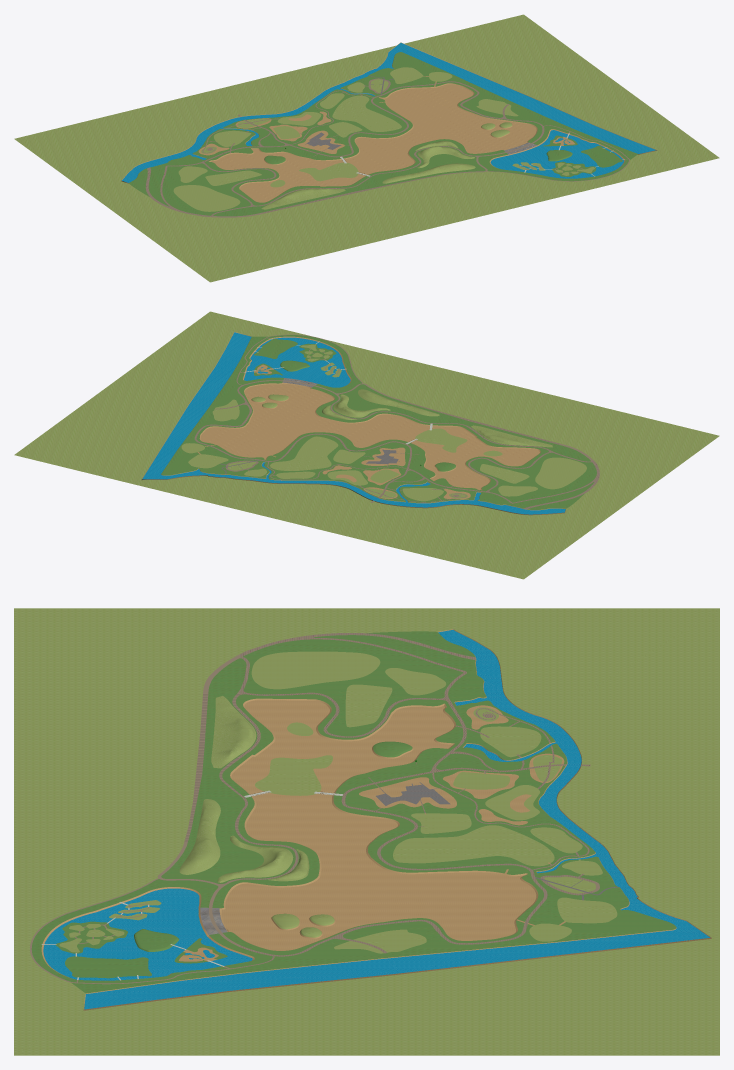
The model's file is running.glb.
3 renders of one model, top to bottom at view 1: azimuth 30°, elevation 25°; view 2: azimuth 150°, elevation 25°; view 3: azimuth 270°, elevation 25°, orthographic. The views are drawn at different scales.
Parts seen in each view (by area): view 1: root; view 2: root; view 3: root.
Part boxes in pixels (left/top/right/bottom): root: left=14, top=14, right=719, bottom=282; root: left=14, top=311, right=719, bottom=579; root: left=14, top=608, right=719, bottom=1055.
Bounding box in the file's own units: 1200 × 18.54 × 800.
Materials: 11 (8 with a texture image).
